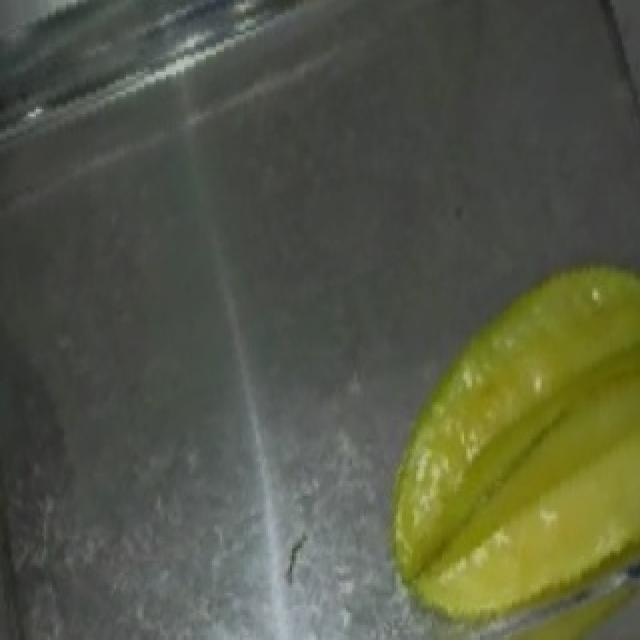fruit: (362, 226, 640, 635)
